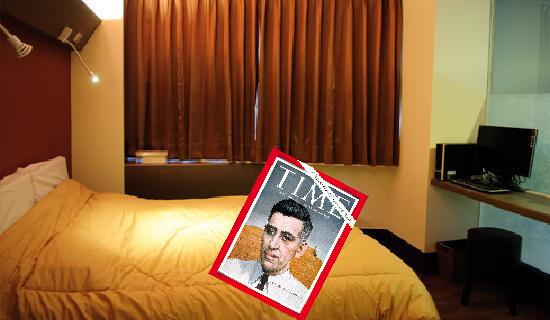times: (206, 144, 372, 320)
